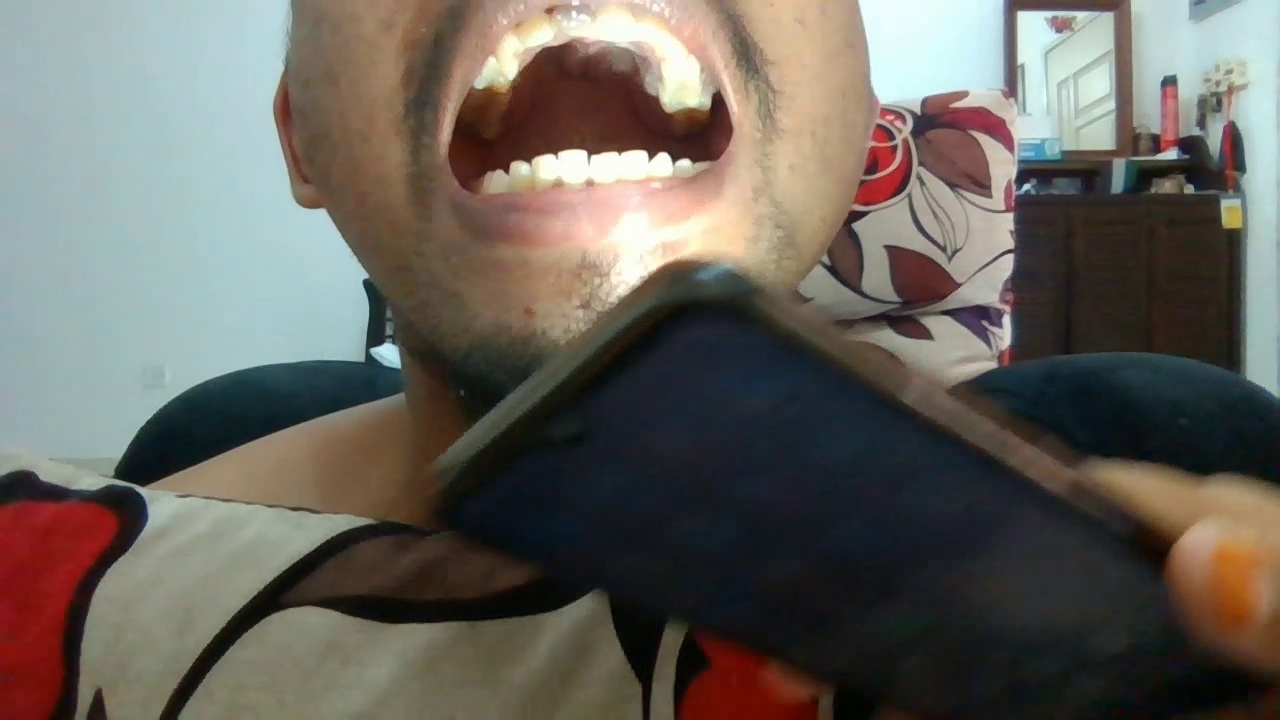1st Premolar: (489, 168, 511, 195), (673, 154, 695, 178)
Canine: (510, 159, 533, 193), (649, 151, 673, 178)
Central Incisor: (597, 1, 637, 39), (552, 3, 597, 34), (557, 149, 589, 185), (588, 149, 620, 185)
Lateral Incisor: (516, 11, 556, 47), (620, 149, 650, 181), (532, 153, 557, 188)
